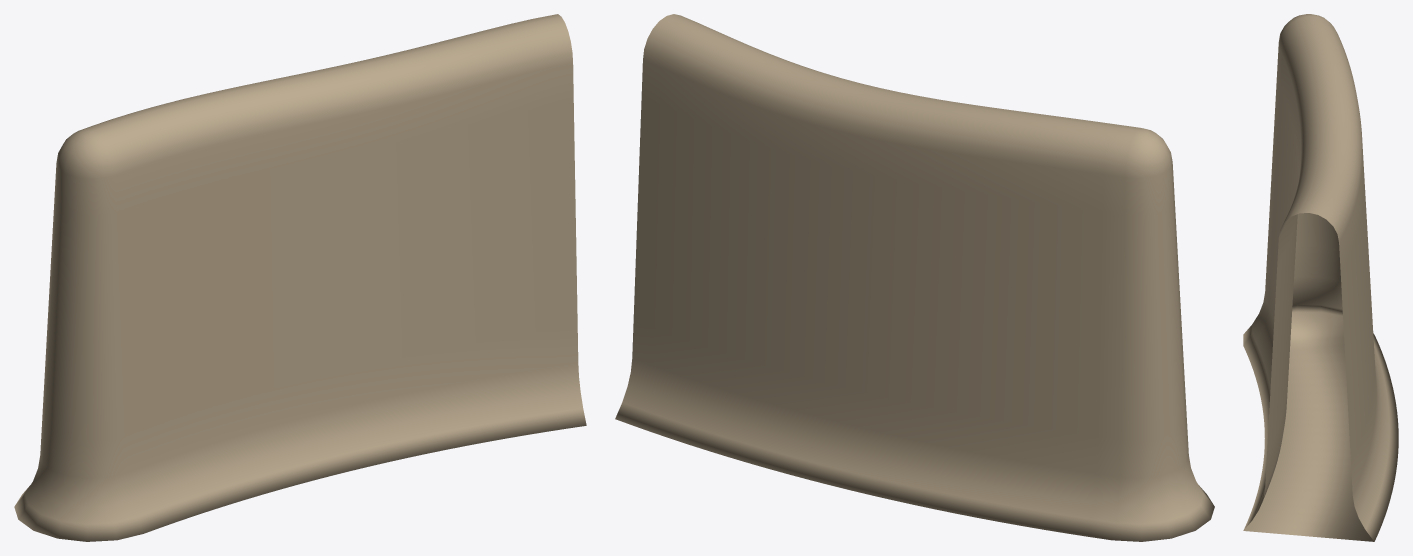
The model's file is KFB_Wall_curved_ring_r3_capB.r4.glb.
3 renders of one model, left to right at view 1: azimuth 30°, elevation 25°; view 2: azimuth 150°, elevation 25°; view 3: azimuth 270°, elevation 25°, orthographic. The views are drawn at different scales.
Parts seen in each view (by area): view 1: KFB_Wall_curved_ring_r3_capB; view 2: KFB_Wall_curved_ring_r3_capB; view 3: KFB_Wall_curved_ring_r3_capB.
Boxes of the visible parts, bbox=[...] form: KFB_Wall_curved_ring_r3_capB: bbox=[14, 14, 586, 541]; KFB_Wall_curved_ring_r3_capB: bbox=[615, 14, 1214, 541]; KFB_Wall_curved_ring_r3_capB: bbox=[1243, 14, 1398, 541].
Bounding box in the file's own units: 5.48 × 3.6 × 1.57.
